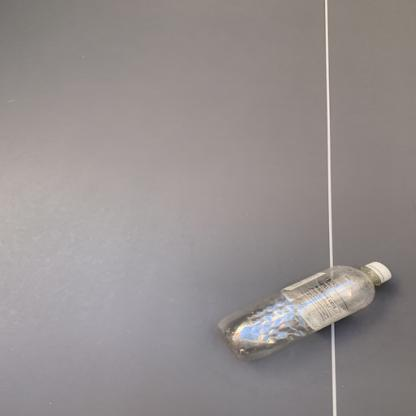trash: (218, 261, 392, 361)
